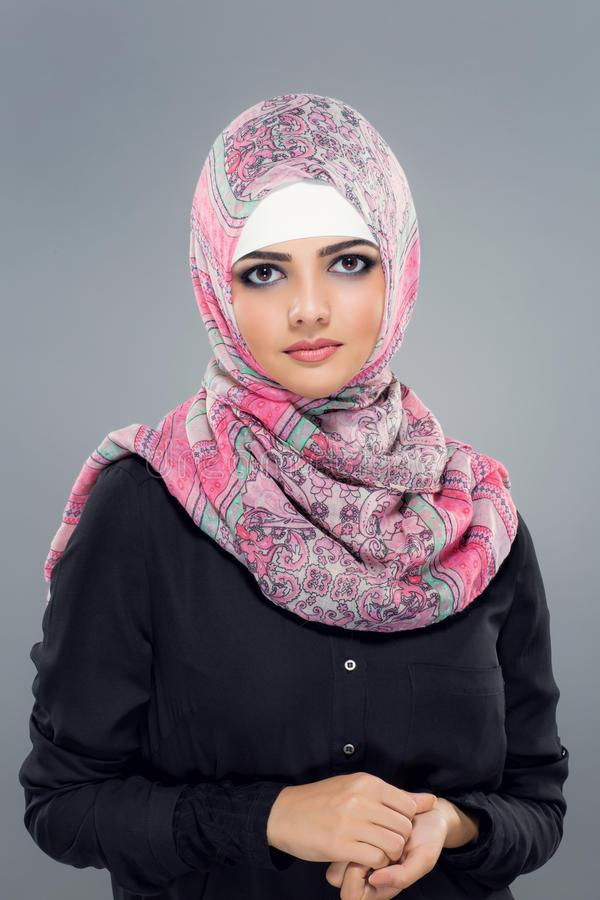No Mask: (189, 70, 462, 474)
